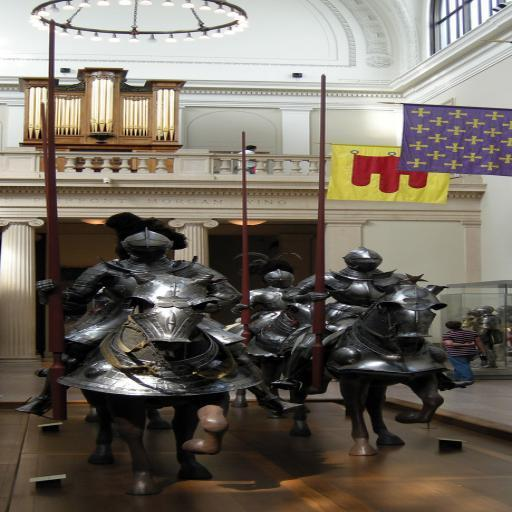horse: (77, 272, 236, 494), (284, 284, 448, 456), (242, 302, 324, 420)
